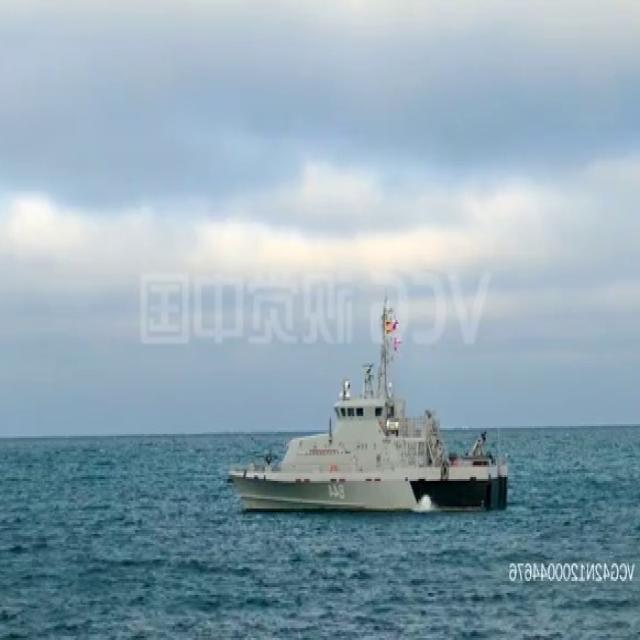houseboat: (232, 305, 511, 514)
